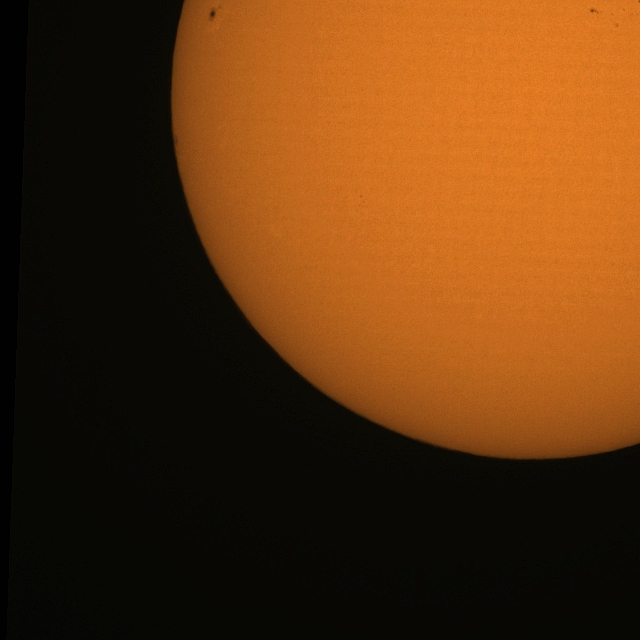sunspot: (207, 3, 223, 23), (588, 7, 602, 16), (612, 22, 620, 28)
